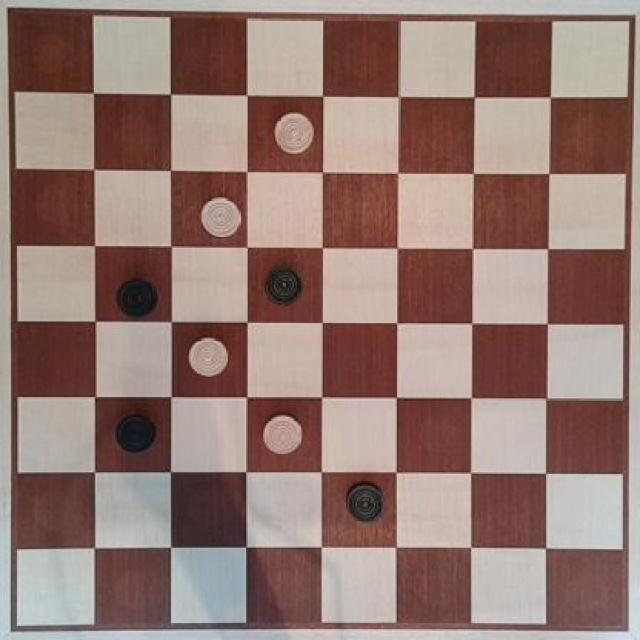BOARD: (10, 8, 628, 632)
black: (103, 266, 171, 320), (109, 399, 164, 462), (336, 478, 391, 526), (261, 255, 306, 312)
white: (258, 101, 321, 162), (183, 187, 247, 247), (176, 328, 234, 388), (255, 404, 307, 463)
